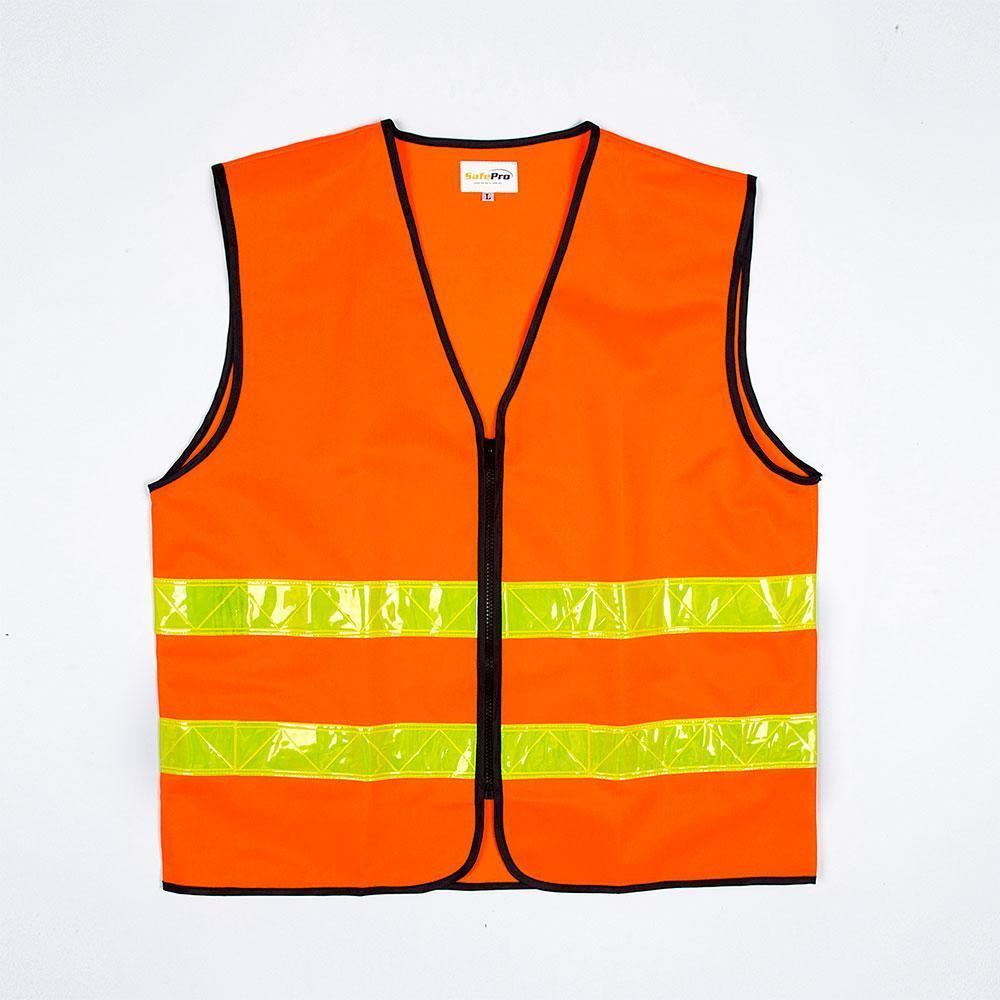vest: (138, 119, 823, 892)
